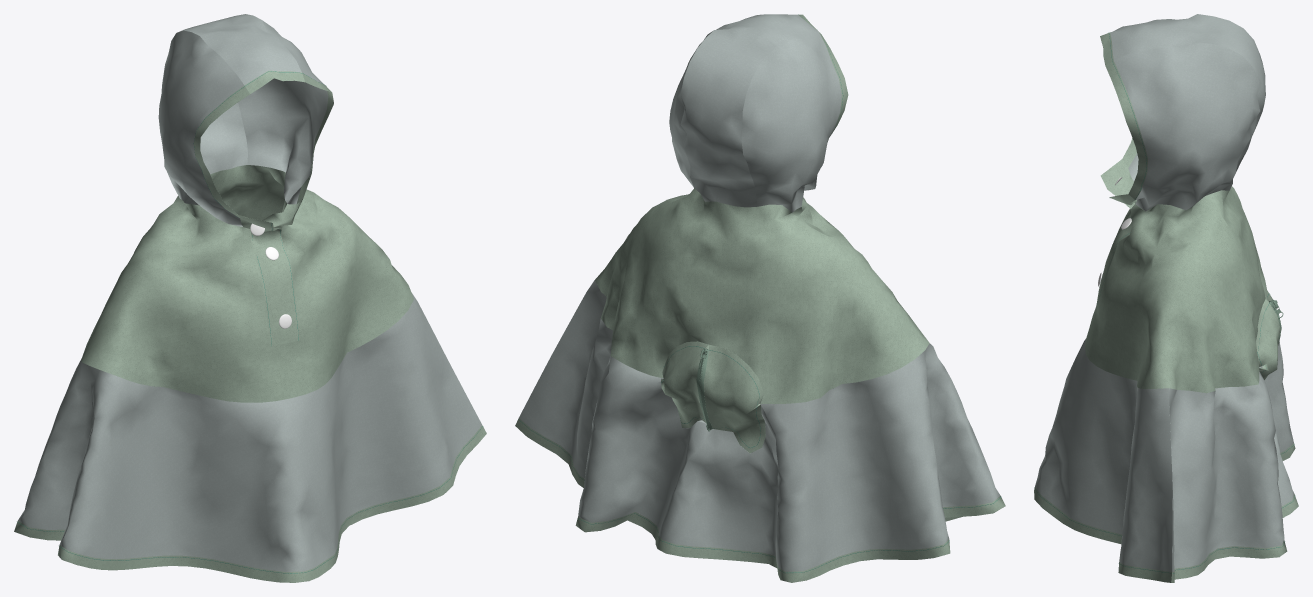
Rendered from Azul.glb.
3 views of the same model, side by side, from view 1: azimuth 30°, elevation 25°; view 2: azimuth 150°, elevation 25°; view 3: azimuth 270°, elevation 25° (orthographic). The views are drawn at different scales.
Visible parts, largest first — view 1: Cloth; view 2: Cloth; view 3: Cloth.
Boxes of the visible parts, <box> form: Cloth: <box>14,14,486,582</box>; Cloth: <box>515,14,1005,582</box>; Cloth: <box>1034,14,1298,582</box>.
Size of the model in its own units: 0.6034 by 0.6344 by 0.3133.
13 materials, 12 textured.
